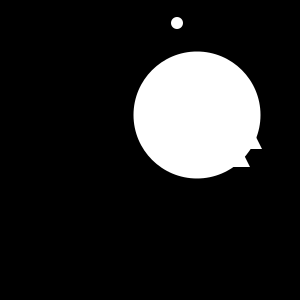rectangle: (133, 52, 260, 178), (171, 17, 183, 29)
triangle: (166, 83, 250, 167), (197, 84, 262, 149)
